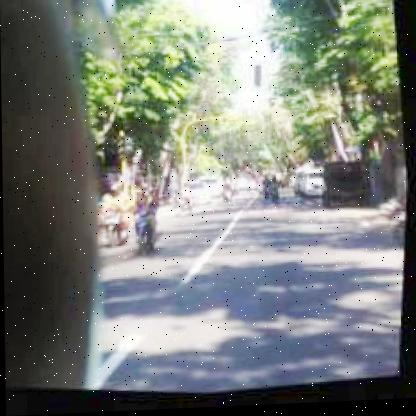Traffic Light -Yellow-: (118, 139, 131, 167), (253, 66, 266, 92)
